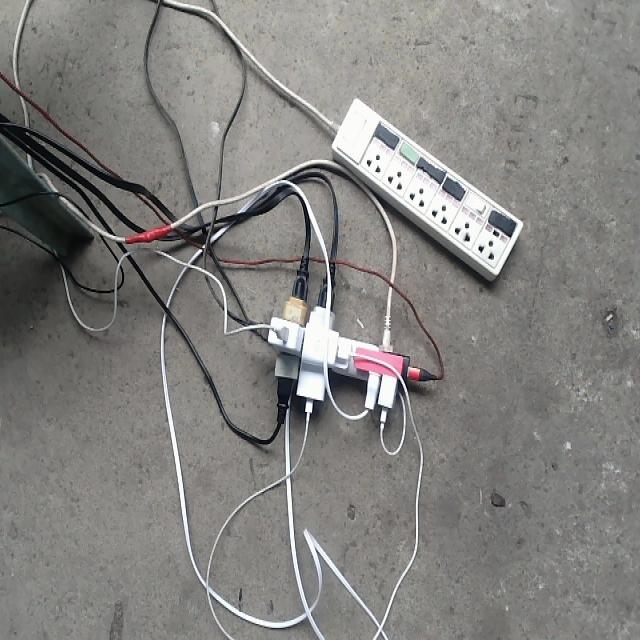-: (263, 268, 418, 429)
